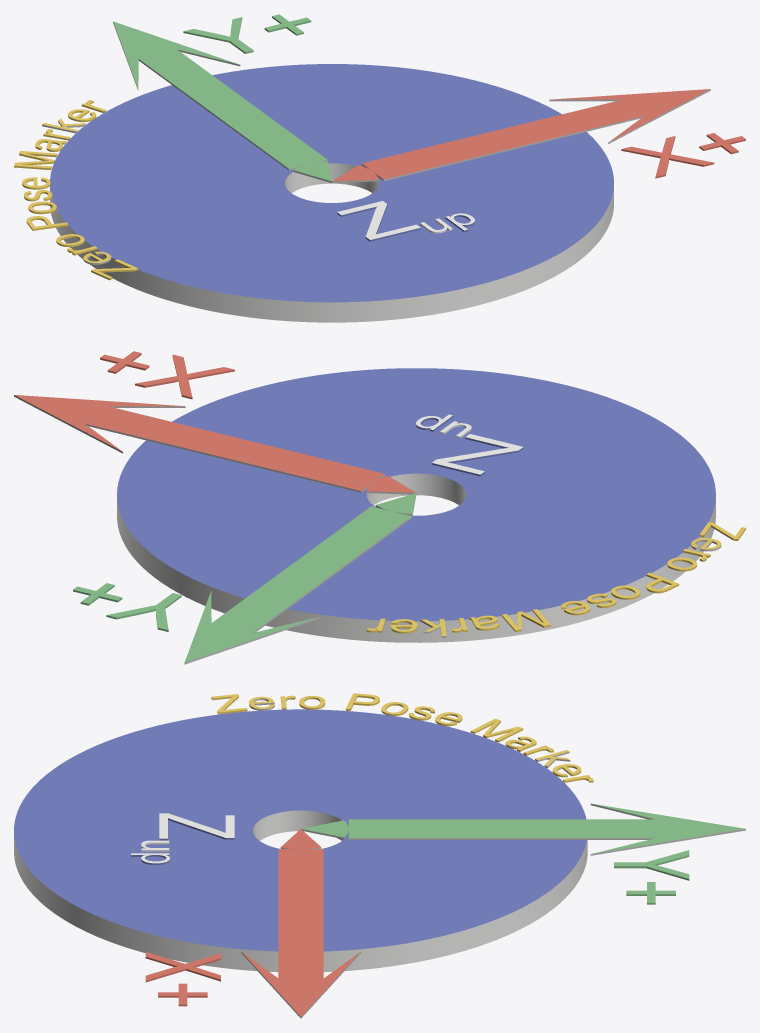
Rendered from Zero Pose Marker.dae.
The picture shows the model from 3 angles, top to bottom: view 1: azimuth 30°, elevation 25°; view 2: azimuth 150°, elevation 25°; view 3: azimuth 270°, elevation 25°; orthographic projection. The views are drawn at different scales.
Parts seen in each view (by area): view 1: Zero Pose Marker v1; view 2: Zero Pose Marker v1; view 3: Zero Pose Marker v1.
Boxes of the visible parts, x1=… form: Zero Pose Marker v1: x1=14, y1=14, x2=745, y2=322; Zero Pose Marker v1: x1=14, y1=351, x2=745, y2=664; Zero Pose Marker v1: x1=14, y1=693, x2=745, y2=1018.
Bounding box in the file's own units: 0.1018 × 0.0972 × 0.00328.
